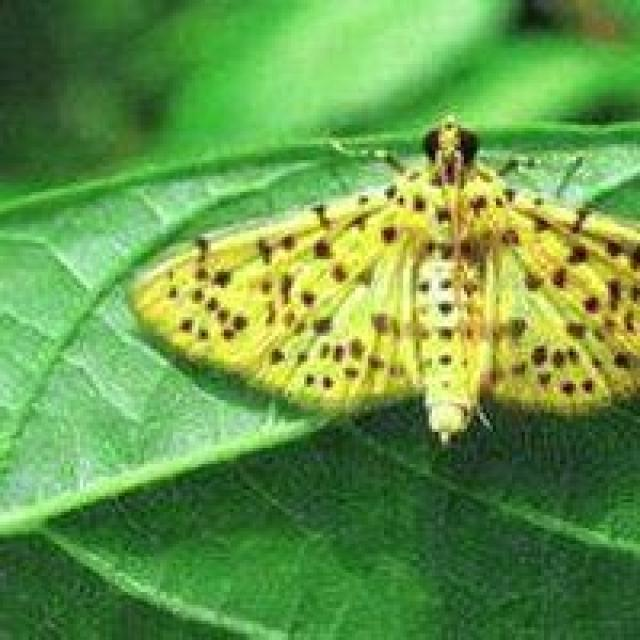peach borer: (129, 99, 640, 435)
